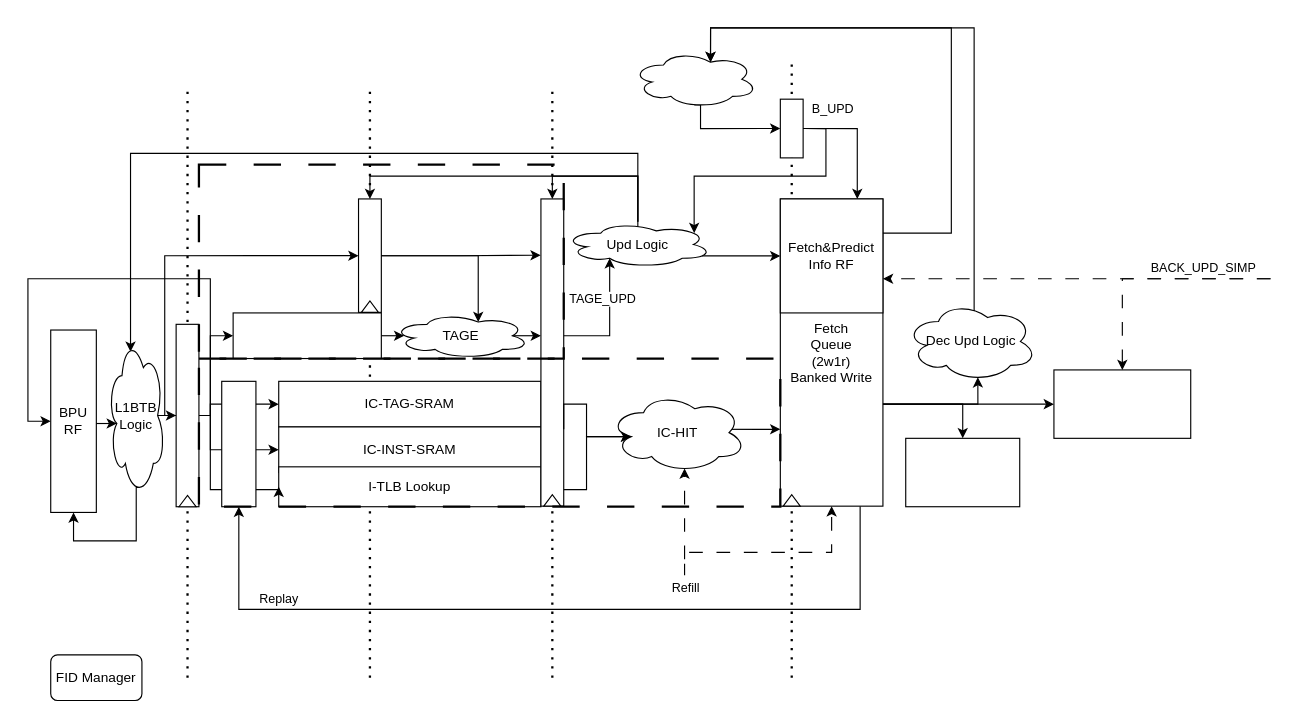
This 1300x720 diagram has some shape labels left out. The shapes that lost their labels are listed below. From the top down, each one's box as (x1, y1, x2, y2) in pixels, then its label:
(631, 50, 758, 108): Back-Upd Logic
(232, 312, 381, 359): TAGE-SRAM
(175, 323, 199, 507): PC
(1053, 369, 1191, 438): Rename
(221, 380, 256, 507): ARB
(905, 437, 1020, 507): RAS
